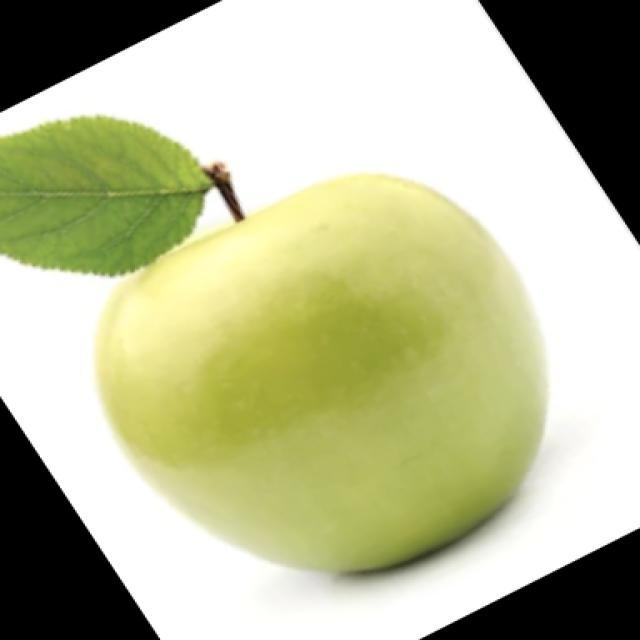Apple: (92, 170, 549, 575)
